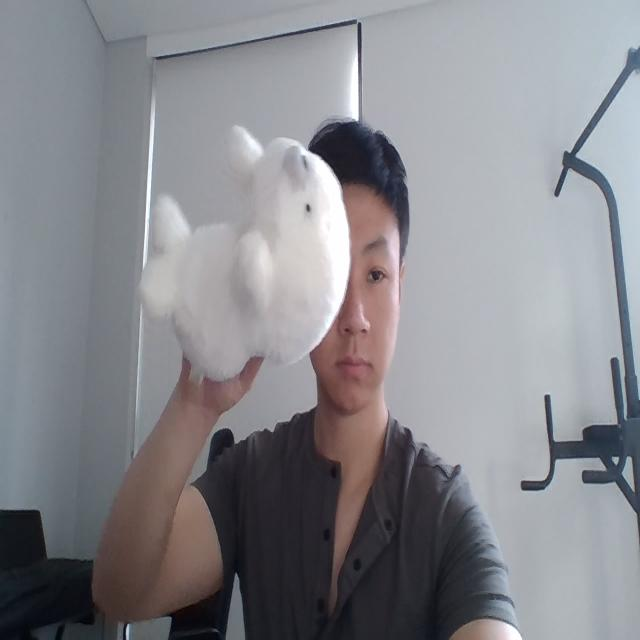seal_bb: (140, 122, 350, 378)
